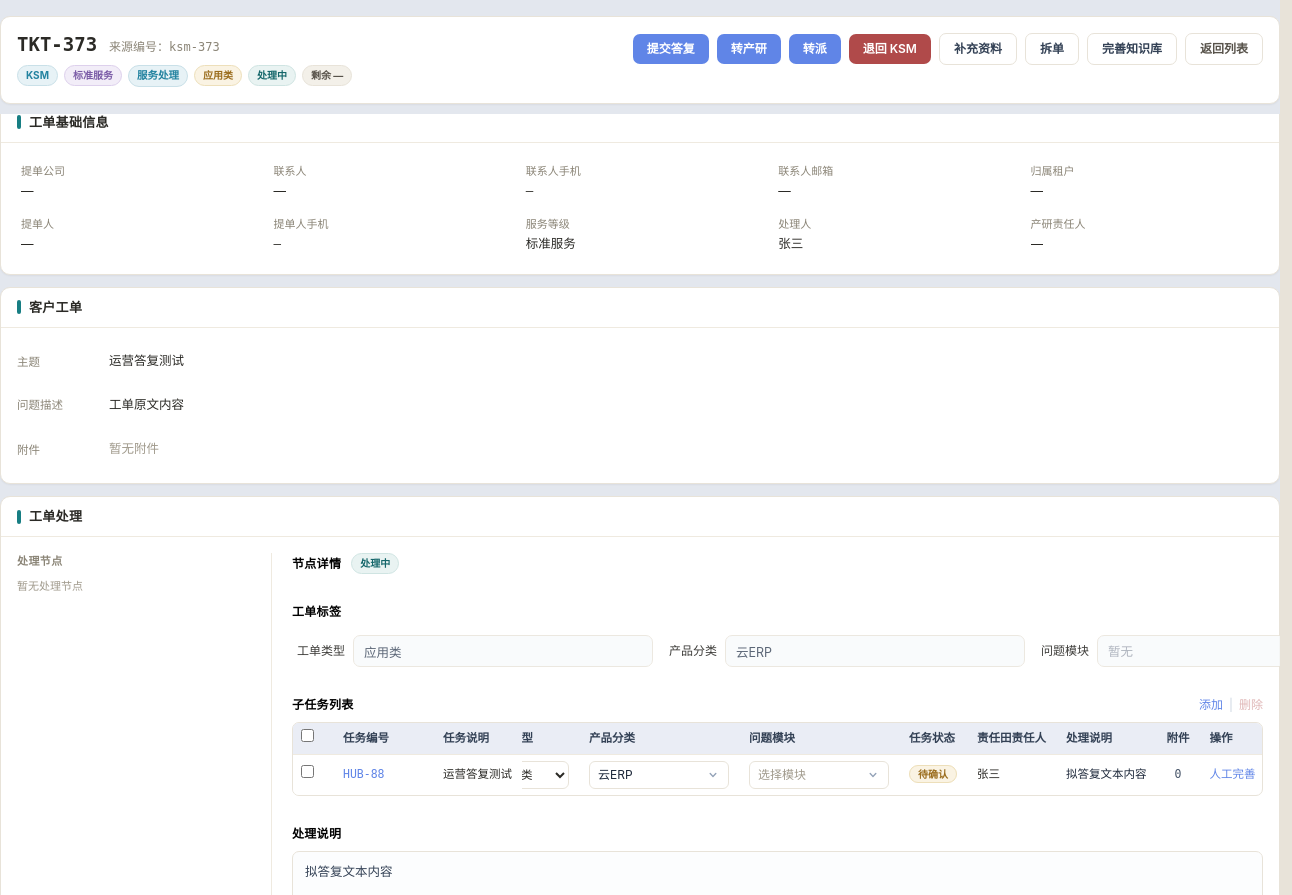
Test case: TicketDetailPage › 点击【提交答复】后收到反馈确认工单答复完成，工单状态变【处理完成】，所有操作按钮变为不显示
Expected: the heading "TKT-373" is shown, [17,33,97,57]
Expected: the button "转产研" is shown, [717,34,781,64]
Click the button "提交答复": (671, 49) [633,34,709,64]
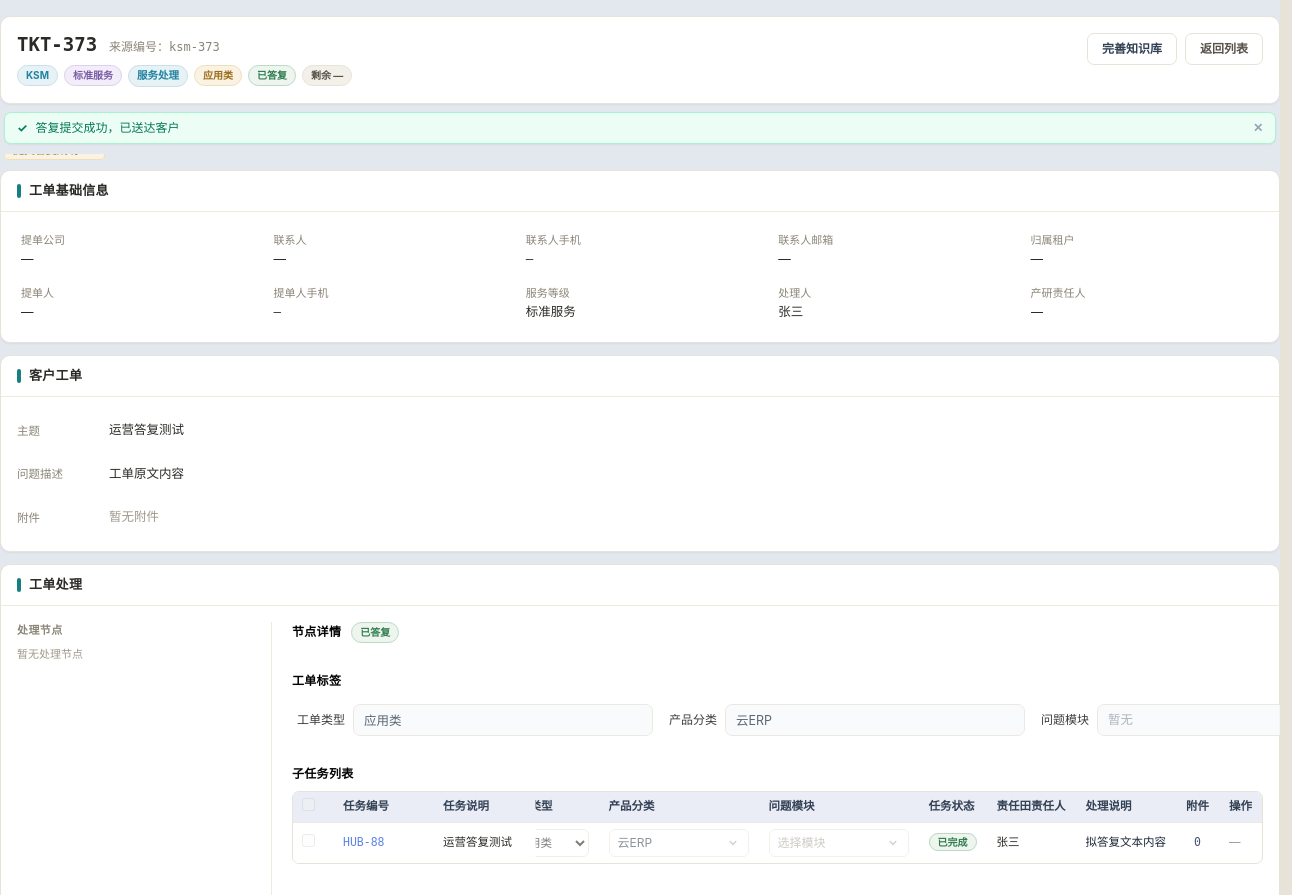
Expected: the button "转产研" is gone
Expected: the button "转派" is gone
Expected: the button "退回 KSM" is gone
